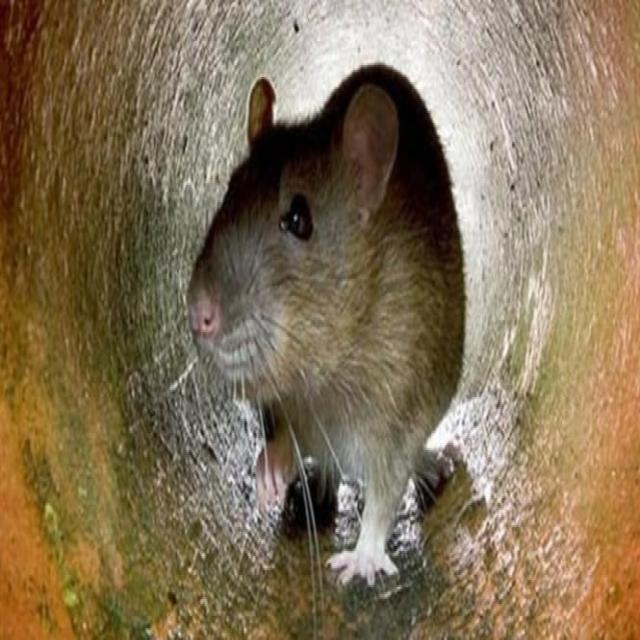rat: (183, 38, 464, 602)
